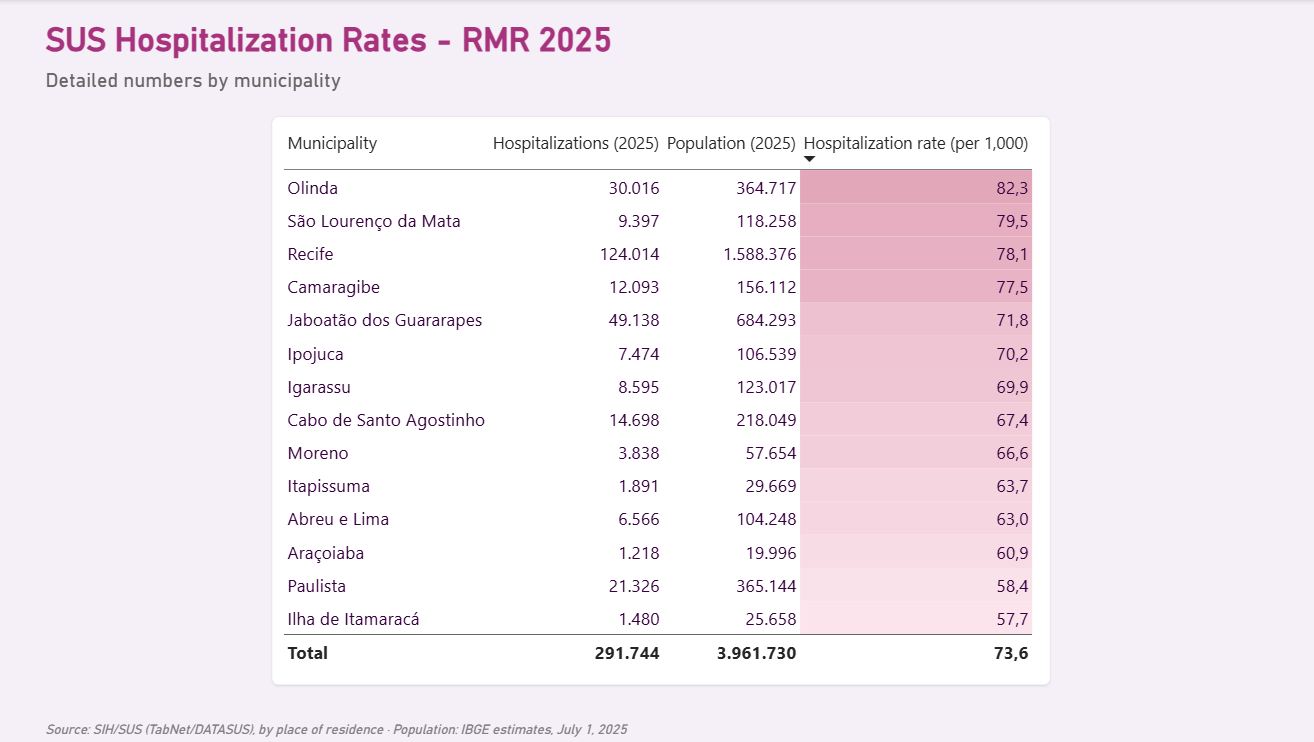

This screenshot's page, from the dashboard's own definition file:
{"tool":"powerbi","page":{"name":"Data","canvas":[1920,1080],"ordinal":1},"visuals":[{"type":"textbox","box":[713,0,211.7,133.9],"z":0},{"type":"textbox","box":[68.8,30.8,1035.1,124.9],"z":1000},{"type":"textbox","box":[68.8,99.5,1721,52.5],"z":2000},{"type":"textbox","box":[68.8,1040.2,1109.3,39.8],"z":3000},{"type":"tableEx","fields":{"Values":["RMR.Municipality","Sum(RMR.Hospitalizations (2025))","Sum(RMR.Population (2025))","RMR.Hospitalization rate (per 1,000)"]},"box":[395.9,169.4,1126.8,823],"z":4000},{"type":"textbox","box":[1451.3,1040.6,390.9,39.8],"z":4001}]}

Visuals, with their boxes in screenshot pixels (x1, y1, x2, y2), scaled from the page's 1920x1080 canvas onto the 1314x742 screenshot:
textbox: [488,0,633,92]
textbox: [47,21,755,107]
textbox: [47,68,1225,104]
textbox: [47,715,806,741]
tableEx - RMR.Municipality x Sum(RMR.Hospitalizations (2025)): [271,116,1042,682]
textbox: [993,715,1261,741]
